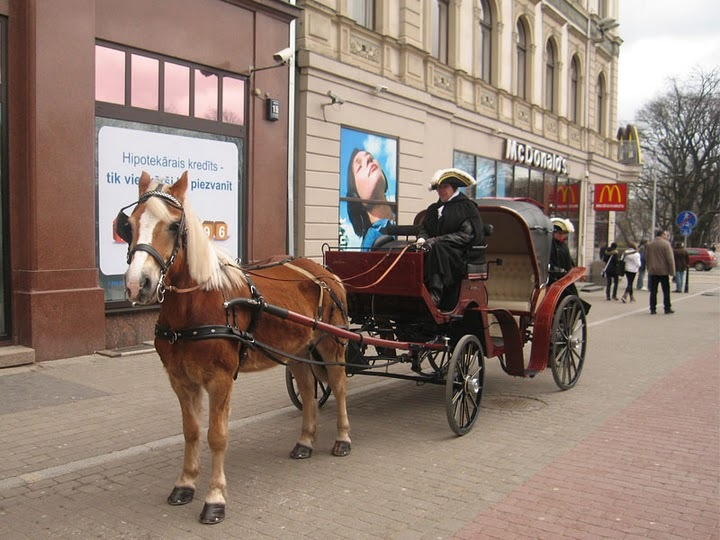horse: (116, 170, 355, 525)
